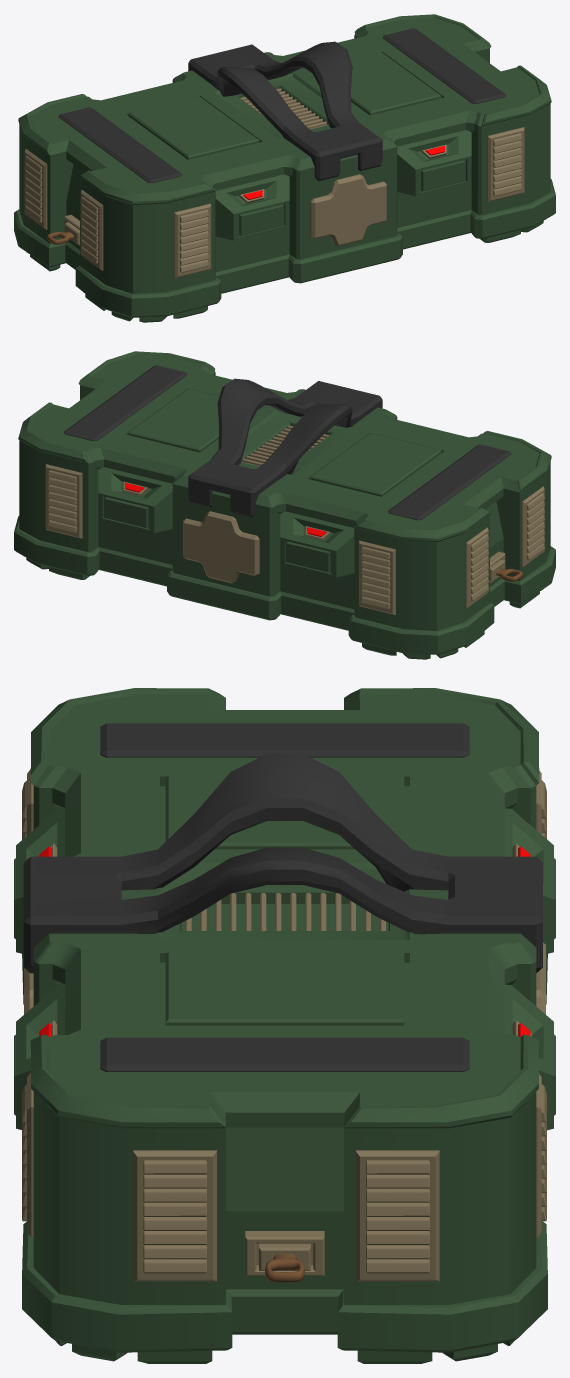
3 views of the same model, one above another, from view 1: azimuth 30°, elevation 25°; view 2: azimuth 150°, elevation 25°; view 3: azimuth 270°, elevation 25° (orthographic). The views are drawn at different scales.
Parts seen in each view (by area): view 1: Object_6, Object_2, Object_5; view 2: Object_6, Object_2, Object_5; view 3: Object_6, Object_2, Object_5, Object_7.
Boxes of the visible parts, x1=… form: Object_6: x1=14, y1=14, x2=555, y2=322; Object_2: x1=58, y1=28, x2=505, y2=183; Object_5: x1=24, y1=88, x2=524, y2=278; Object_6: x1=14, y1=351, x2=555, y2=659; Object_2: x1=64, y1=365, x2=511, y2=520; Object_5: x1=45, y1=425, x2=544, y2=614; Object_6: x1=14, y1=688, x2=555, y2=1363; Object_2: x1=23, y1=723, x2=542, y2=1071; Object_5: x1=22, y1=769, x2=546, y2=1281; Object_7: x1=265, y1=1253, x2=304, y2=1282.
Bounding box in the file's own units: 4034 × 1642 × 2024.
